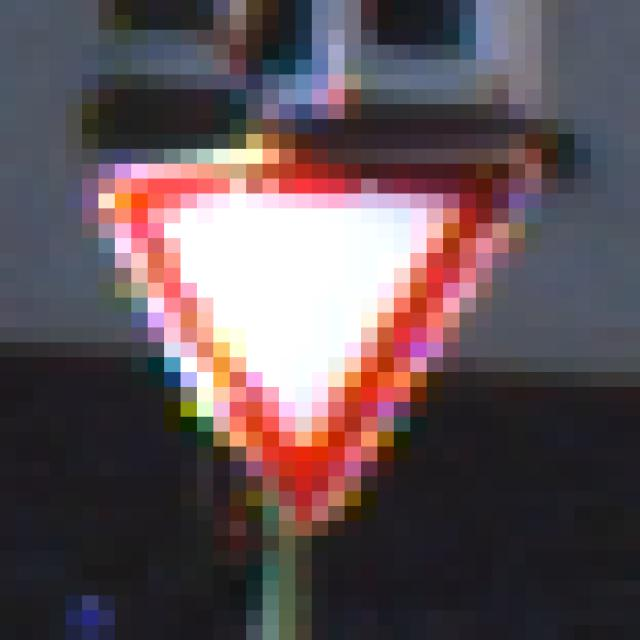Give Way: (83, 76, 559, 567)
